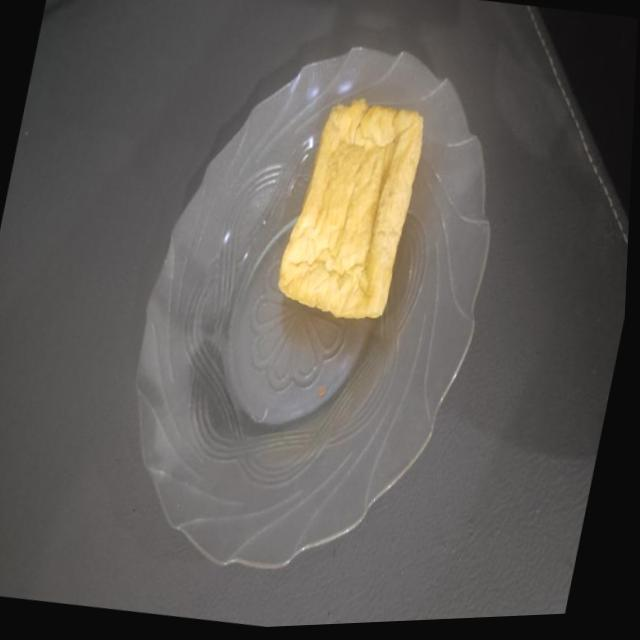tahu_goreng: (278, 100, 422, 318)
